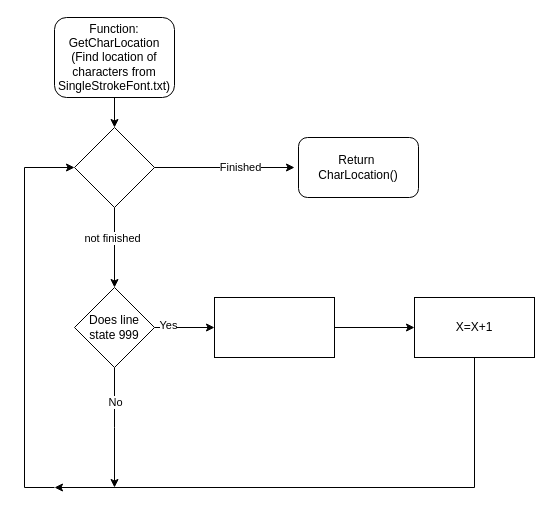
Some shapes in this 552 by 513 pixel diagram are drawn without their labels. The shapes that lost their labels are listed below. From the top down, each one's centre as x and y in pixels, then its label:
At pixel 114 167: "for number of lines of font data".
At pixel 274 327: "Store position of new data point in array CharLocation(position x)".
